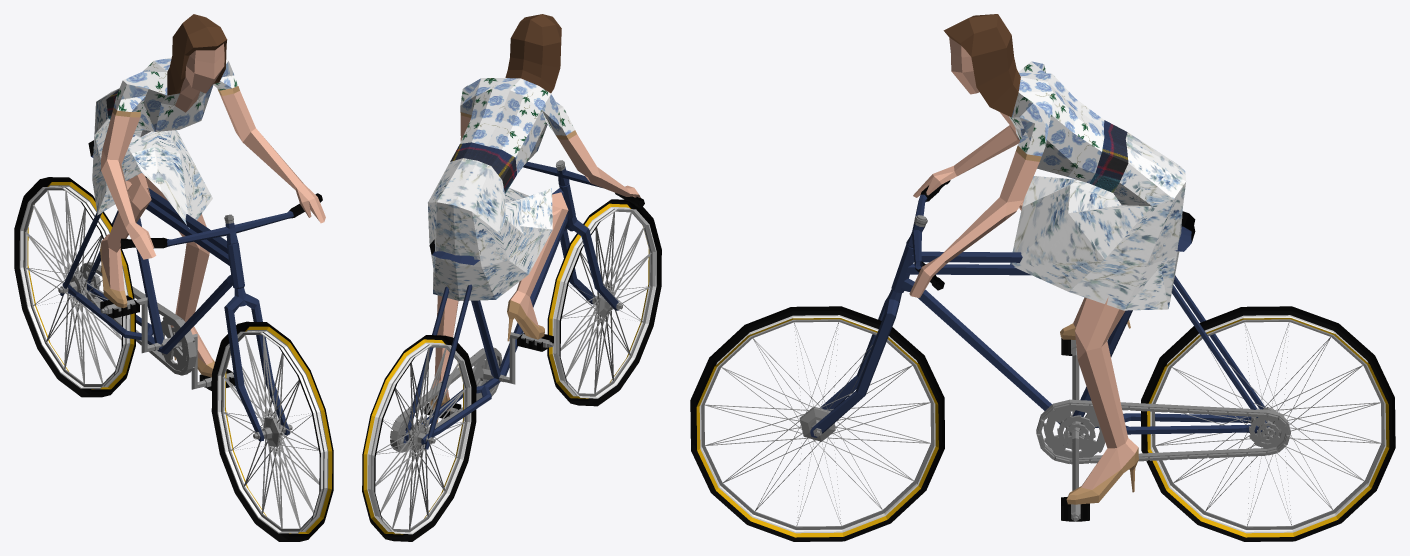
File: SpringWomanC.001.glb
3 views of the same model, side by side, from view 1: azimuth 30°, elevation 25°; view 2: azimuth 150°, elevation 25°; view 3: azimuth 270°, elevation 25° (orthographic). The views are drawn at different scales.
Parts seen in each view (by area): view 1: SpringWomanC.001; view 2: SpringWomanC.001; view 3: SpringWomanC.001.
Part boxes in pixels (left/top/right/bottom): SpringWomanC.001: left=14, top=14, right=333, bottom=541; SpringWomanC.001: left=362, top=14, right=661, bottom=541; SpringWomanC.001: left=690, top=14, right=1395, bottom=541.
Size of the model in its own units: 0.7301 by 1.62 by 1.97.
Materials: 6 (1 with a texture image).
